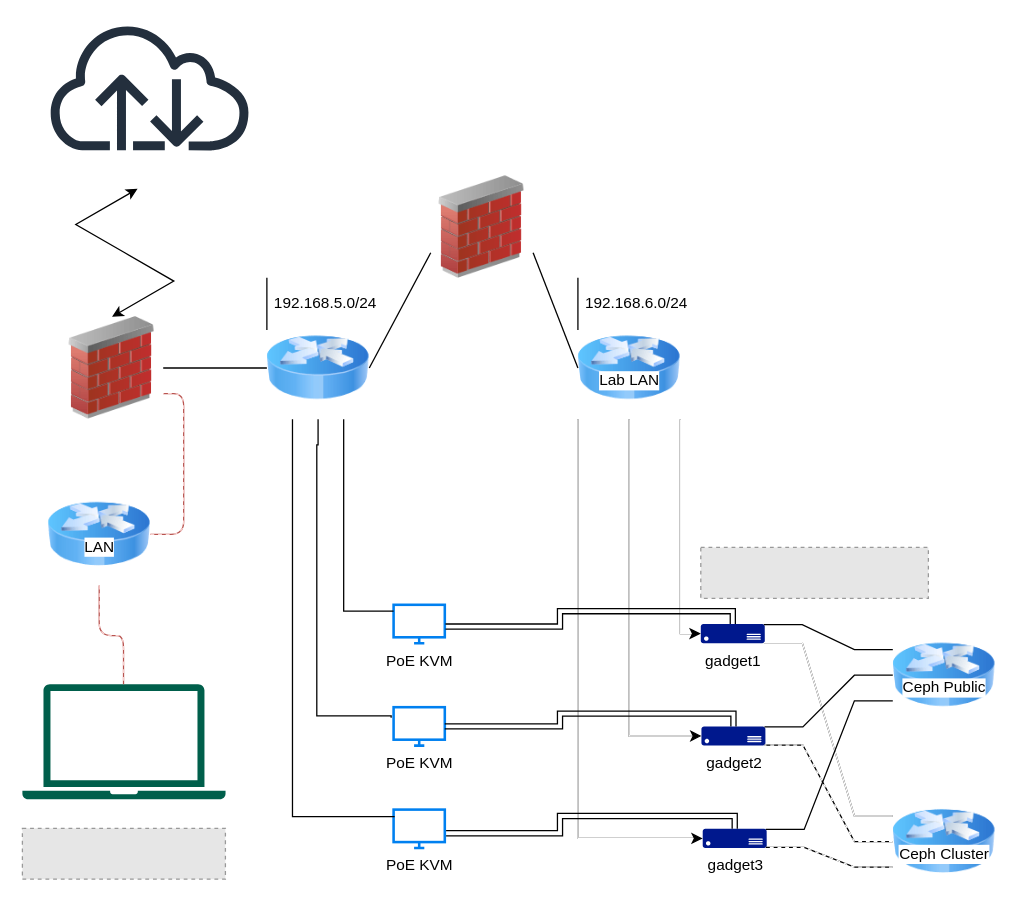
This 1018x914 diagram has some shape labels left out. Grey dashed boxes stand in for pictures. Each missing label, with the box of its shape:
Control Node: (22, 684, 225, 799)
Internet: (47, 22, 250, 150)
Lab Firewall: (430, 175, 532, 278)
Lab WAN: (266, 316, 369, 419)
Site Firewall: (60, 316, 163, 419)
